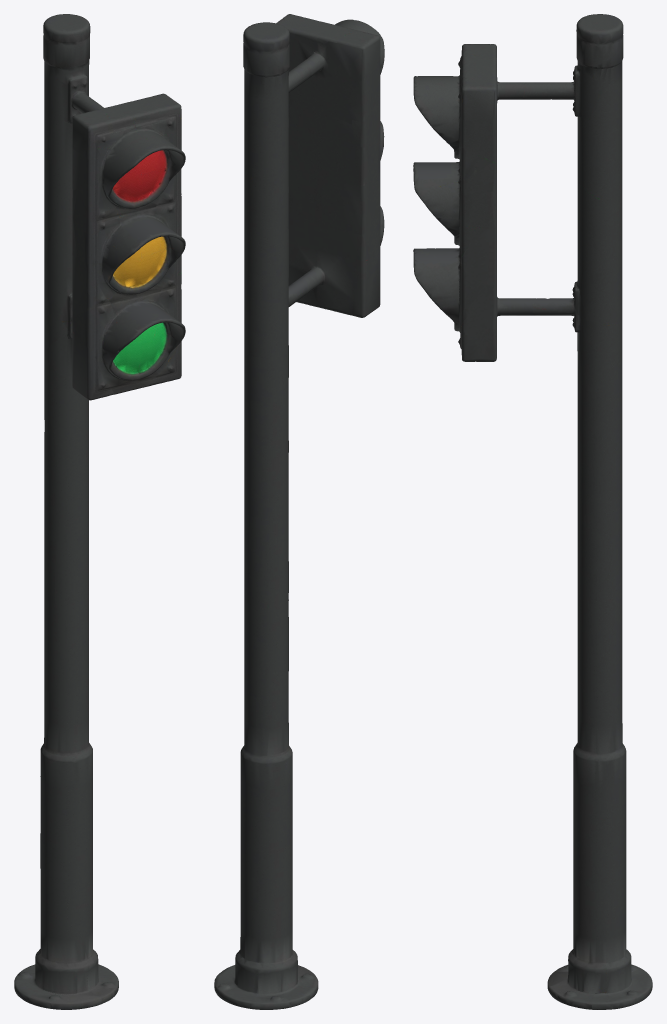
The model's file is tsignal.glb.
The picture shows the model from 3 angles, left to right: view 1: azimuth 30°, elevation 25°; view 2: azimuth 150°, elevation 25°; view 3: azimuth 270°, elevation 25°; orthographic projection.
Visible parts, largest first — view 1: mesh_node; view 2: mesh_node; view 3: mesh_node.
Boxes of the visible parts, bbox=[...] form: mesh_node: bbox=[14, 14, 185, 1009]; mesh_node: bbox=[214, 14, 384, 1009]; mesh_node: bbox=[413, 14, 652, 1009].
Bounding box in the file's own units: 0.194 × 1.9 × 0.4271.
1 material, 1 textured.
